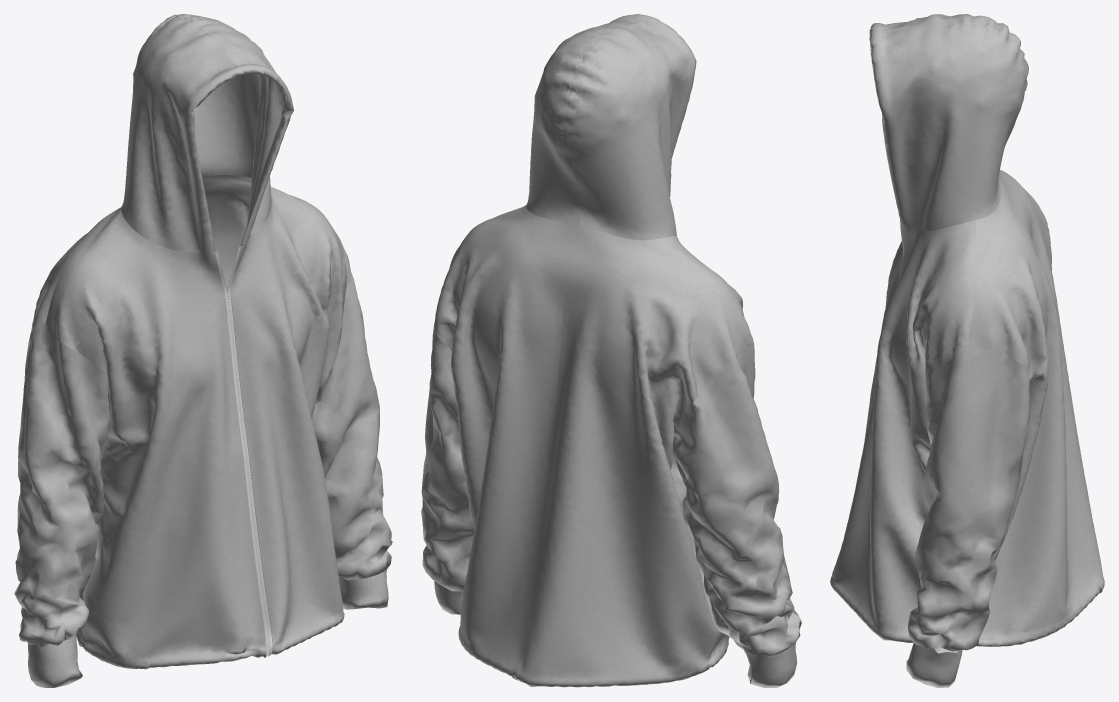
File: hoodieSmaller-transformed.glb
The picture shows the model from 3 angles, left to right: view 1: azimuth 30°, elevation 25°; view 2: azimuth 150°, elevation 25°; view 3: azimuth 270°, elevation 25°; orthographic projection. The views are drawn at different scales.
Visible parts, largest first — view 1: Cloth; view 2: Cloth; view 3: Cloth.
Boxes of the visible parts, bbox=[...] form: Cloth: bbox=[14, 14, 392, 687]; Cloth: bbox=[421, 14, 801, 687]; Cloth: bbox=[830, 14, 1104, 687].
Size of the model in its own units: 0.6308 by 1.01 by 0.4238.
Materials: 4 (4 with a texture image).
